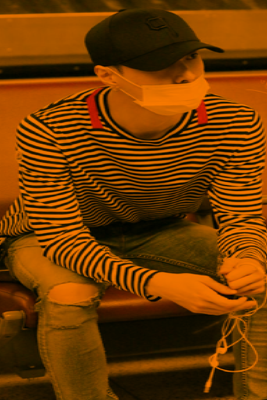mask_weared_incorrect: (123, 52, 205, 115)
